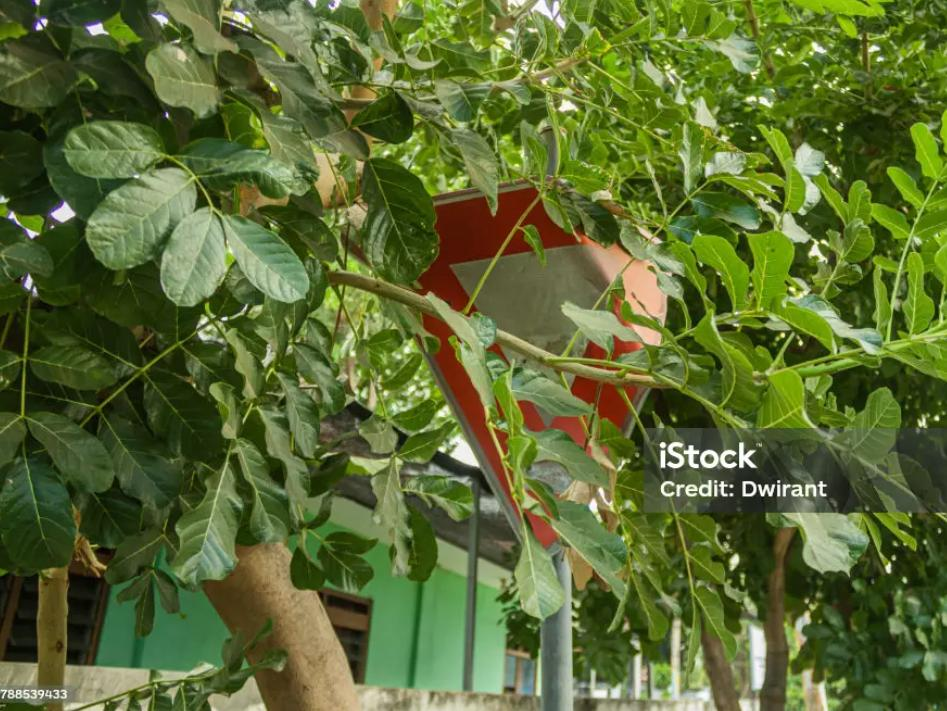obstructed_road_sign: (354, 156, 704, 557)
